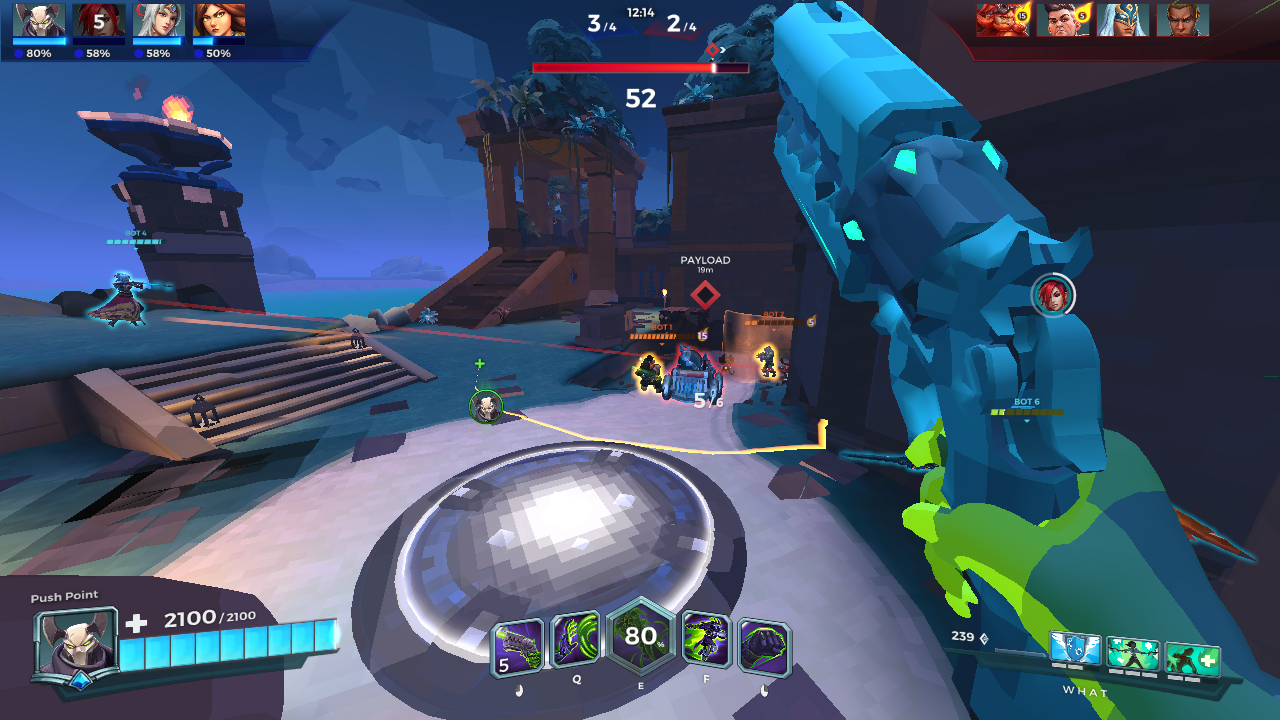model: (749, 333, 782, 387), (629, 349, 668, 391)
